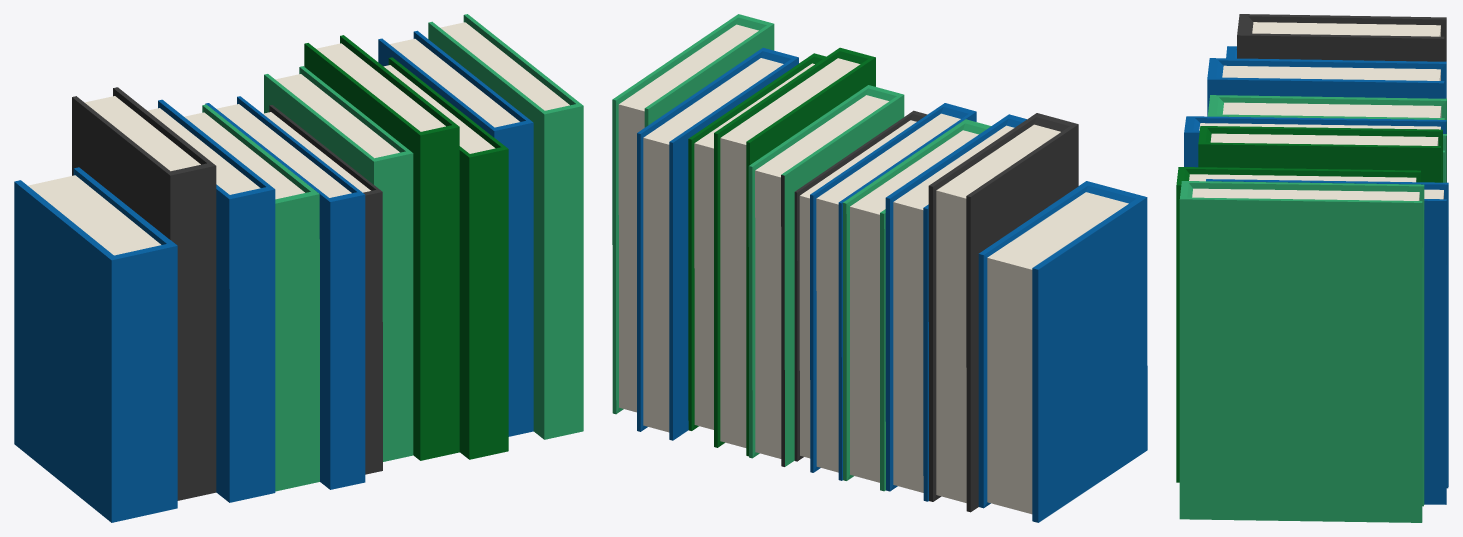
The model's file is Bedroom3_Books1.fbx.
3 renders of one model, left to right at view 1: azimuth 30°, elevation 25°; view 2: azimuth 150°, elevation 25°; view 3: azimuth 270°, elevation 25°, orthographic. The views are drawn at different scales.
Parts seen in each view (by area): view 1: Bedroom3_Books1; view 2: Bedroom3_Books1; view 3: Bedroom3_Books1.
Boxes of the visible parts, x1=… form: Bedroom3_Books1: x1=14, y1=14, x2=583, y2=522; Bedroom3_Books1: x1=612, y1=14, x2=1147, y2=522; Bedroom3_Books1: x1=1176, y1=14, x2=1448, y2=522.
Size of the model in its own units: 63.53 by 33.47 by 43.6.
